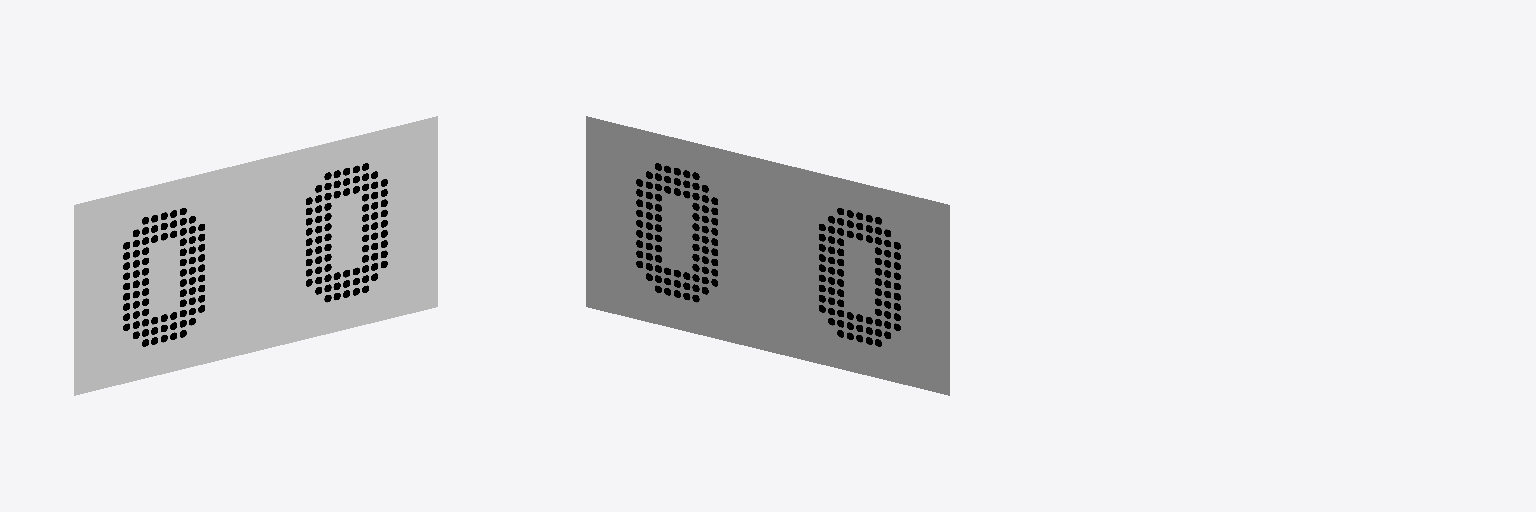
3 views of the same model, side by side, from view 1: azimuth 30°, elevation 25°; view 2: azimuth 150°, elevation 25°; view 3: azimuth 270°, elevation 25° (orthographic).
Visible parts, largest first — view 1: Plane; view 2: Plane; view 3: none.
Part boxes in pixels (x1,y1,x2,y2): Plane: (74, 116, 437, 395); Plane: (586, 116, 949, 395).
Bounding box in the file's own units: 4 × 2 × 0.
Materials: 1 (1 with a texture image).